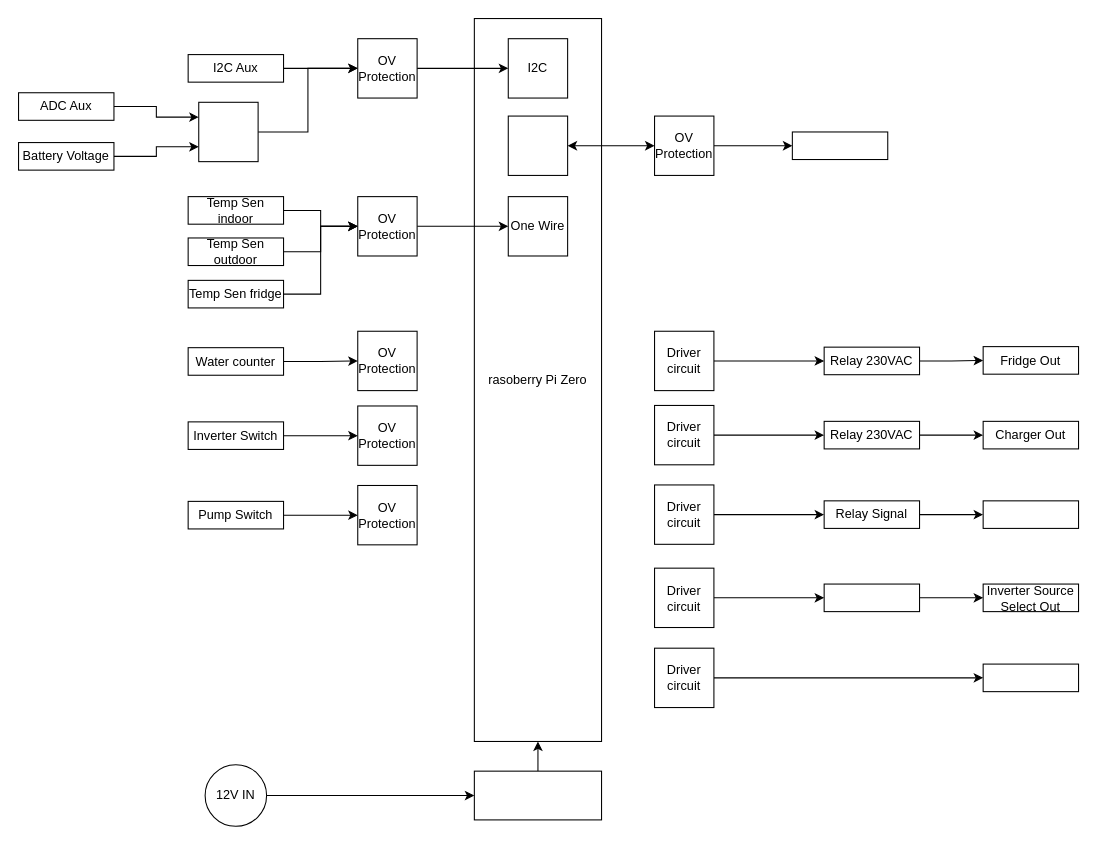
This 1097x845 diagram has some shape labels left out. The shapes that lost their labels are listed below. From the top down, each one's centre as x and y in pixels, then its label:
At pixel 228 131: "ADC".
At pixel 537 145: "Serial".
At pixel 839 145: "MPTT VE.Direct".
At pixel 1030 514: "Inverter Enable Out".
At pixel 871 597: "Relay 30A".
At pixel 1030 677: "Pump Out".
At pixel 537 795: "Power Supply".
